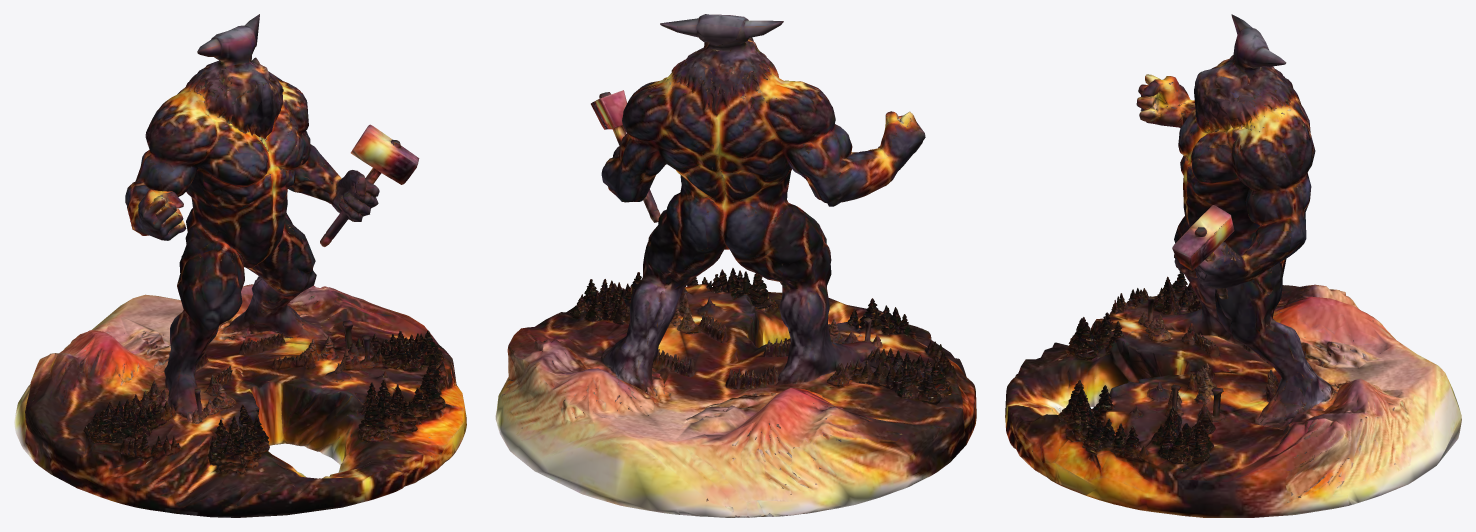
File: mini_efc10.glb
3 renders of one model, left to right at view 1: azimuth 30°, elevation 25°; view 2: azimuth 150°, elevation 25°; view 3: azimuth 270°, elevation 25°, orthographic. The views are drawn at different scales.
Bounding box in the file's own units: 1.89 × 1.77 × 1.89.
Materials: 1 (1 with a texture image).
